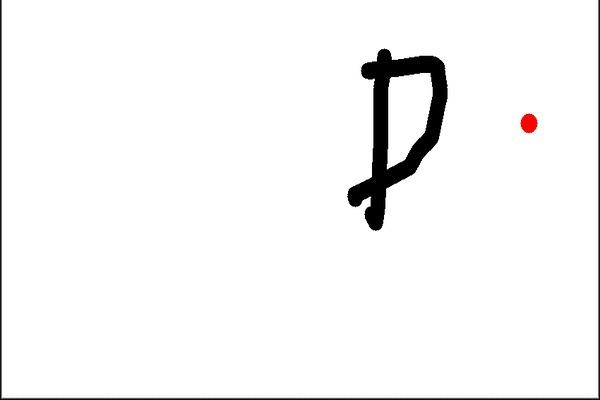D: (343, 46, 456, 235)
